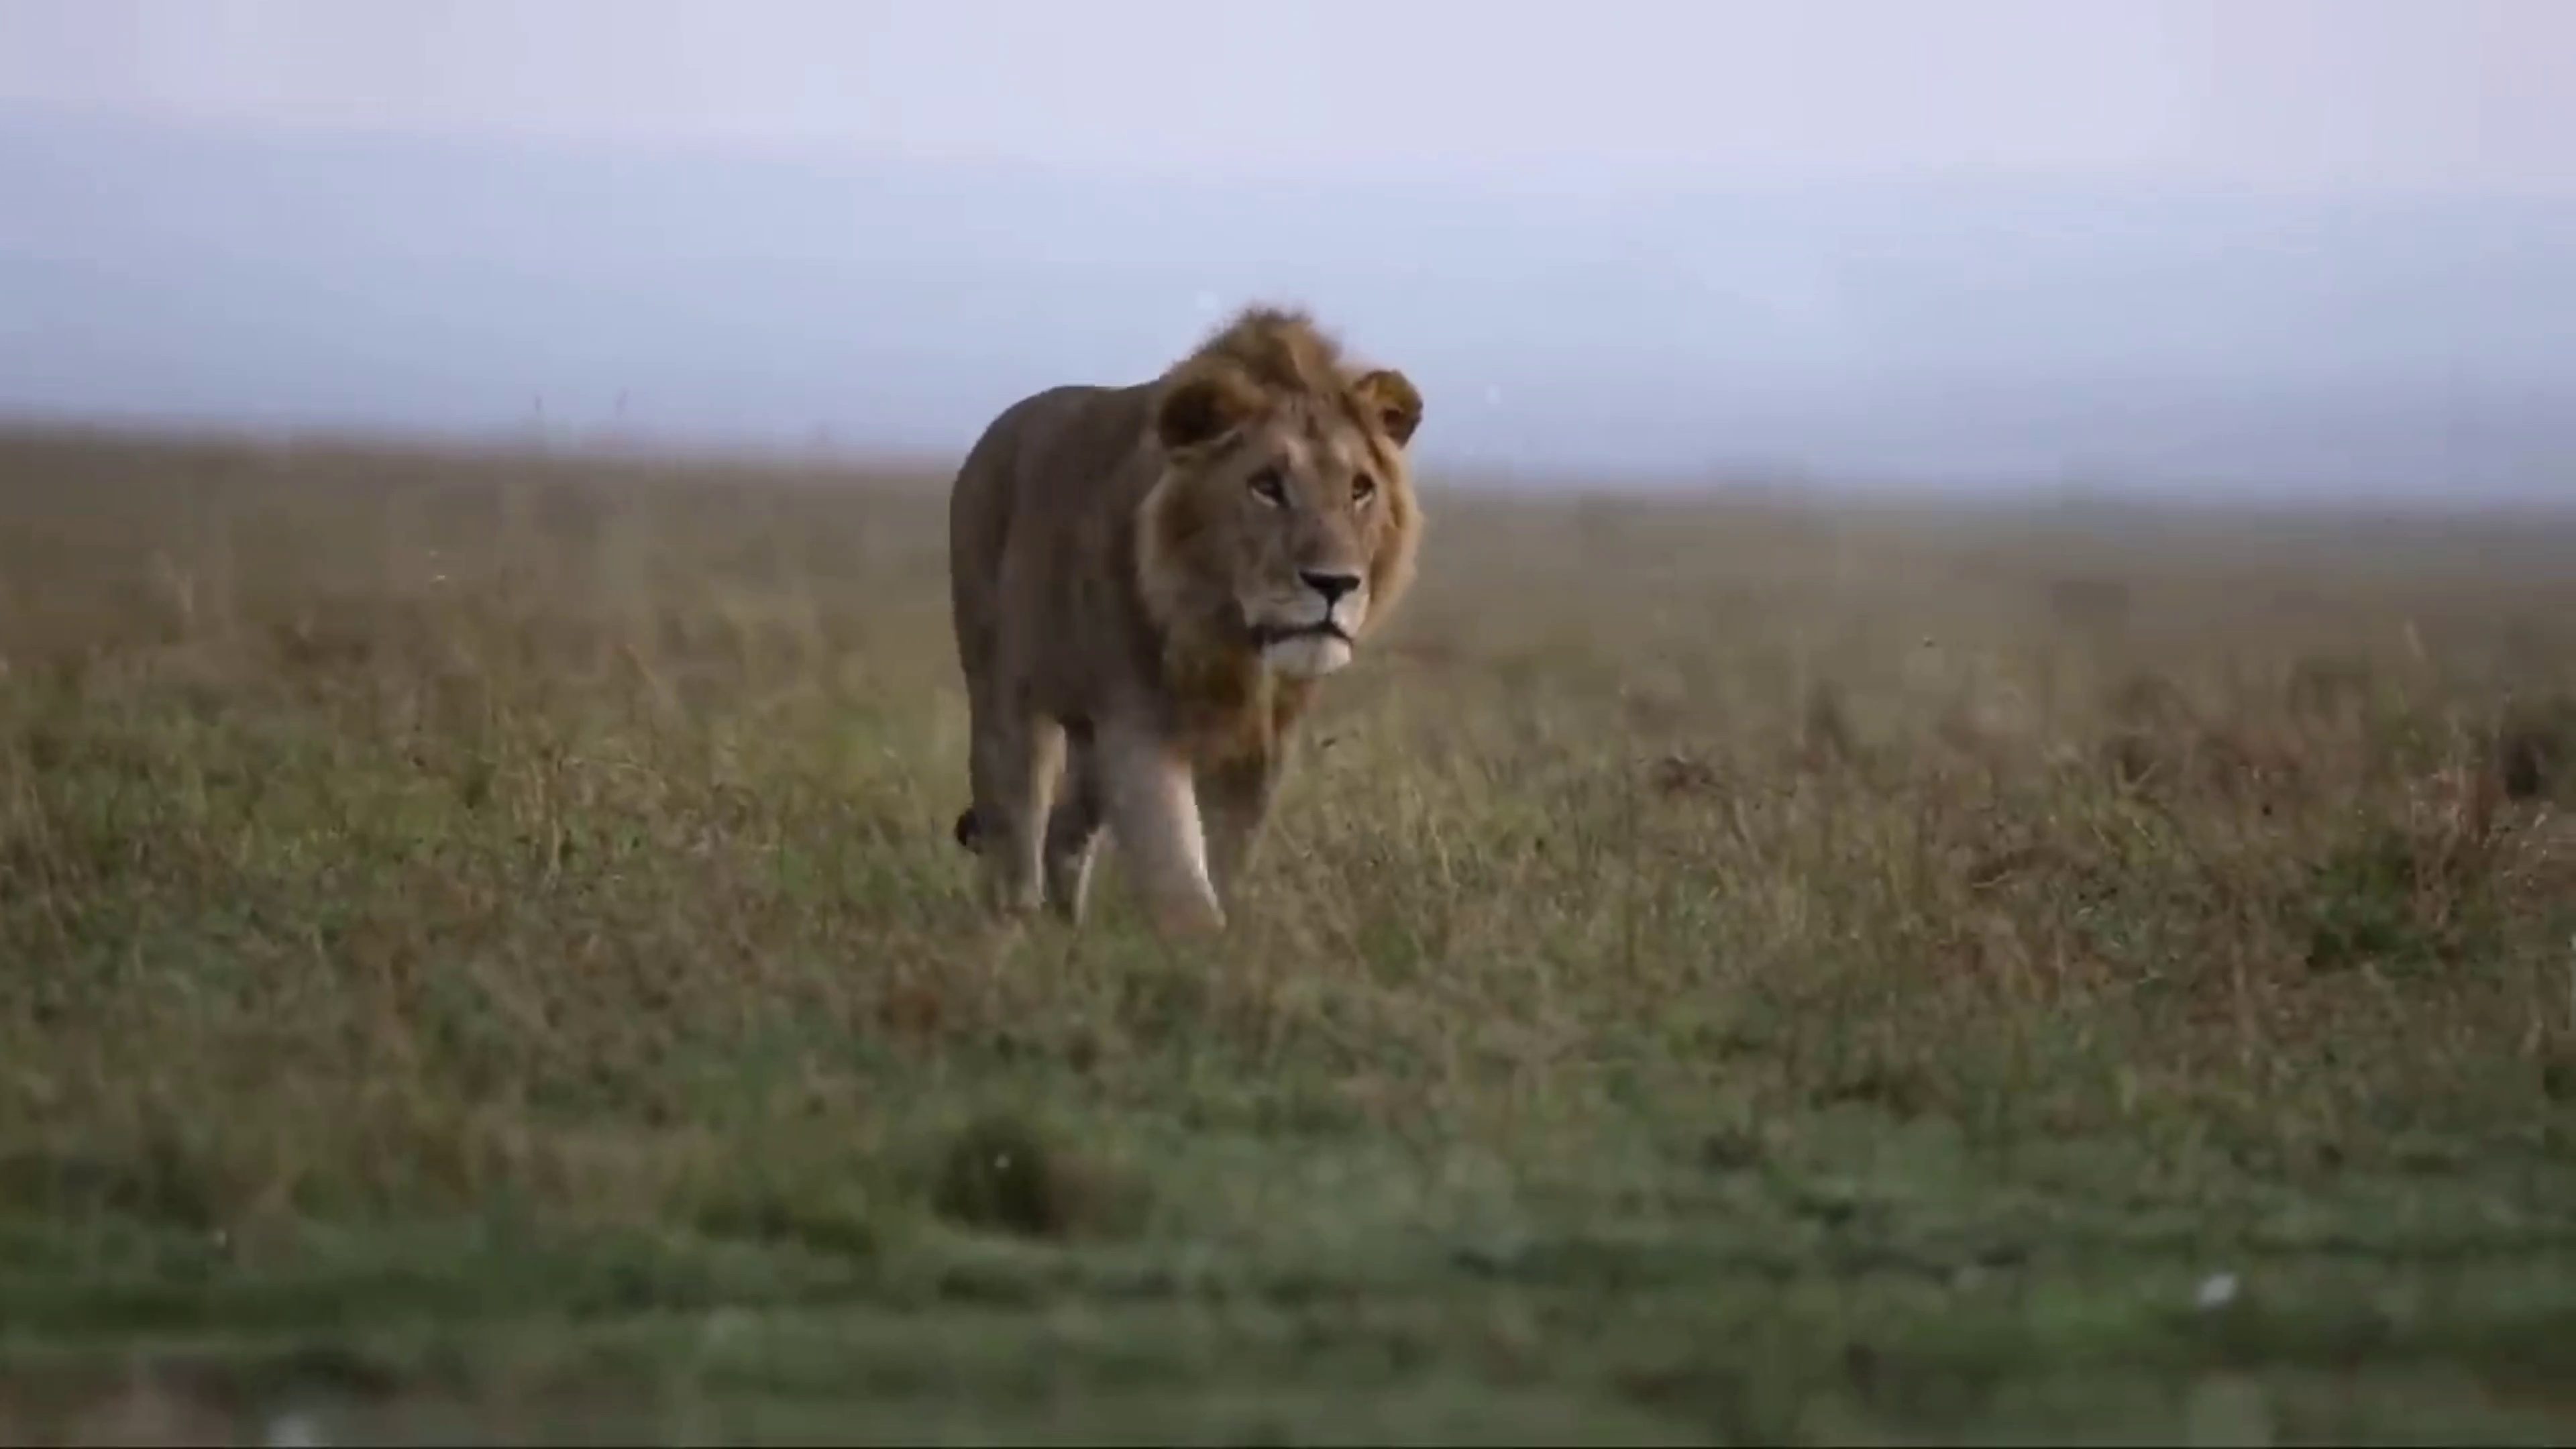Lion: (950, 308, 1428, 959)
